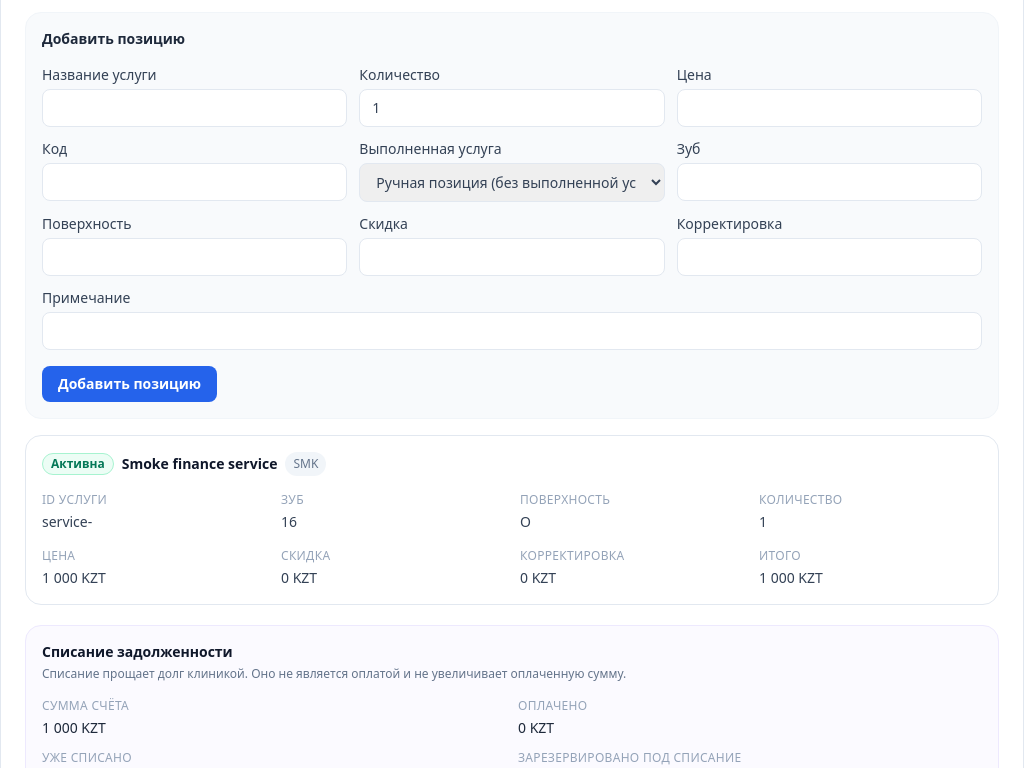
Scenario: PatientFinancePanel › add item form validates serviceName and amount
The width and height of the screenshot is (1024, 768).
(page scrolled)
Click the button with test id "finance-add-item-submit".
click(130, 384)  # box [42,366,217,402]
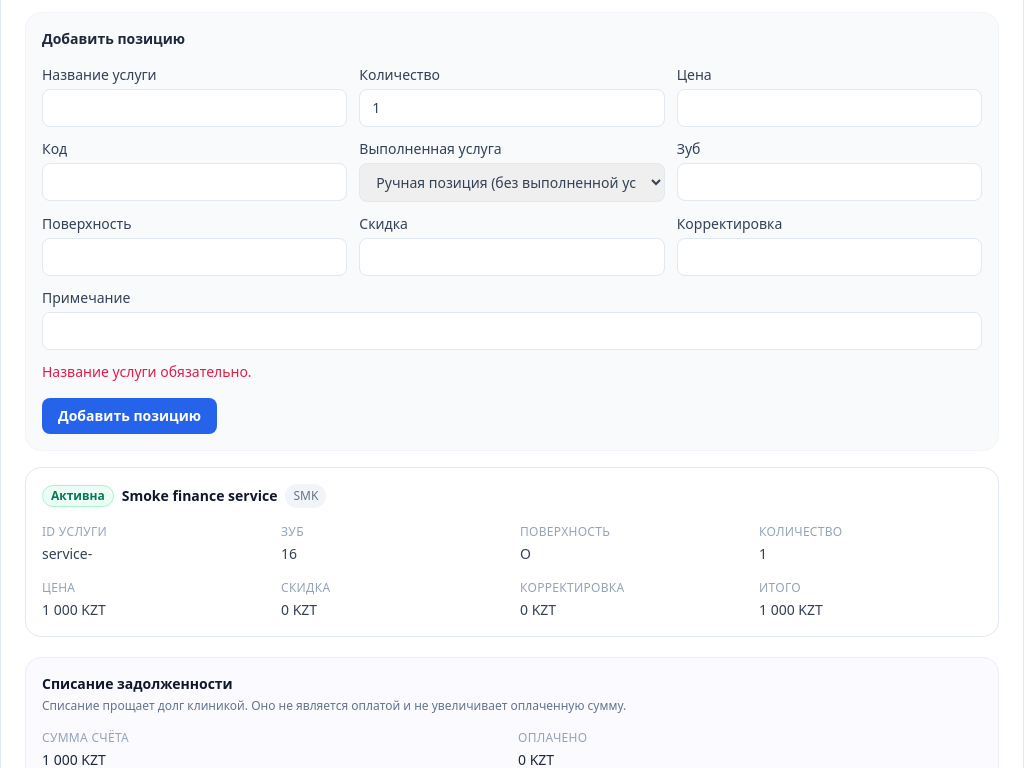
Check: the text "Название услуги обязательно." is shown, box [42,362,252,381]
